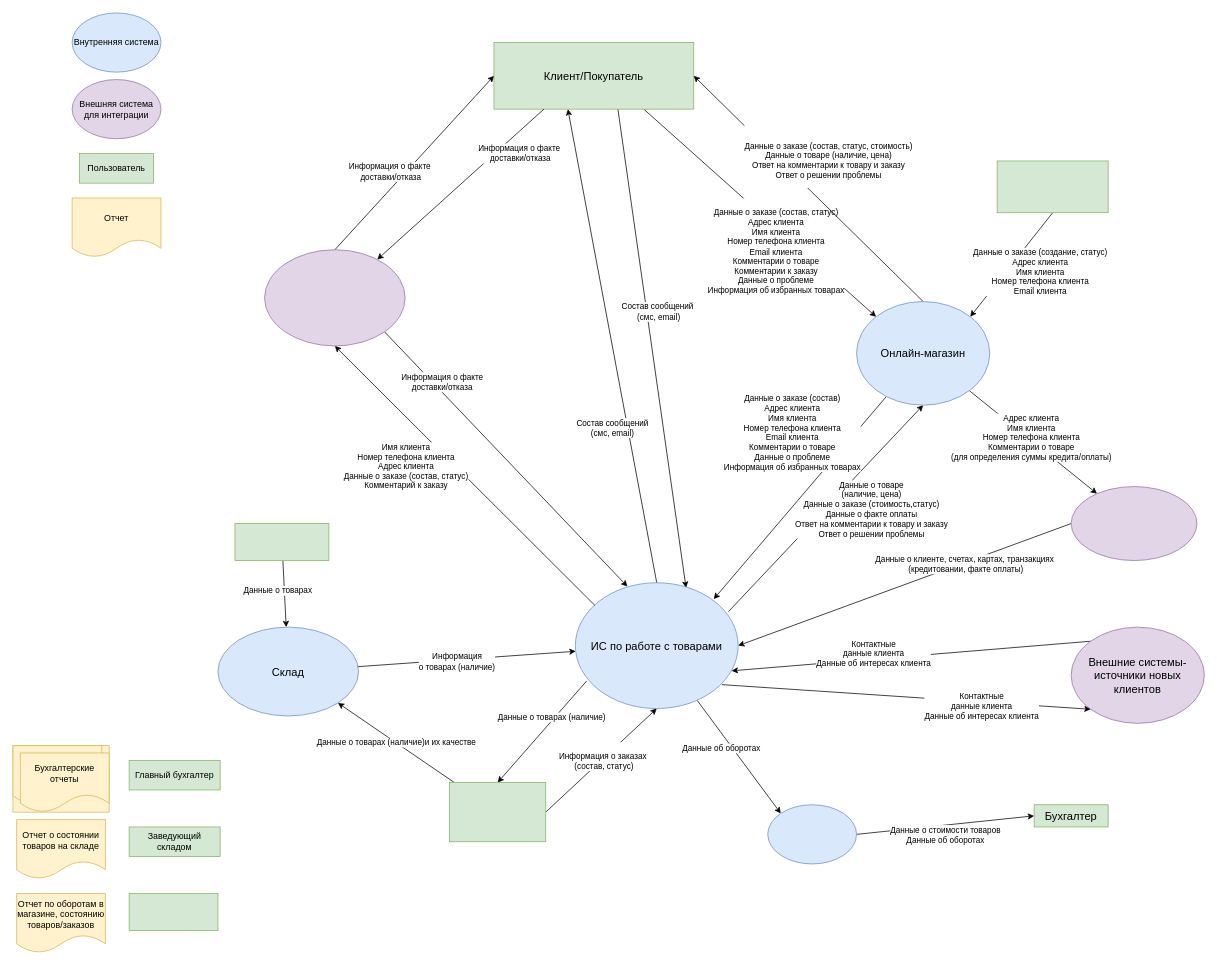
Image size: 1217x966. Some labels were removed from this diagram. Here are the shapes that lost their labels. From the top down, the centre of each, then its label:
(x=1052, y=186): Операторы/администраторы онлайн-магазина
(x=334, y=297): Службы доставки
(x=281, y=542): Оператор склада
(x=1133, y=523): Поставщик банковских услуг
(x=497, y=812): Сотрудники по работе с товарами в ИС
(x=812, y=834): Бухгалтерия
(x=173, y=912): Руководитель магазина
